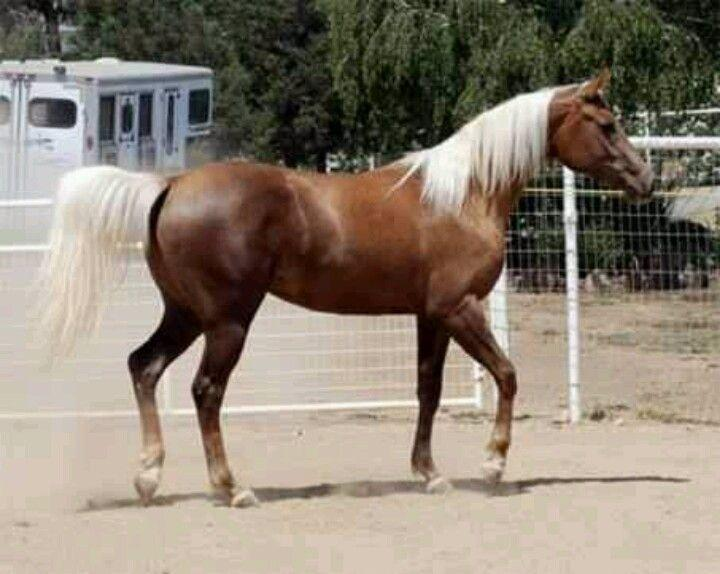horse: (27, 61, 656, 508)
